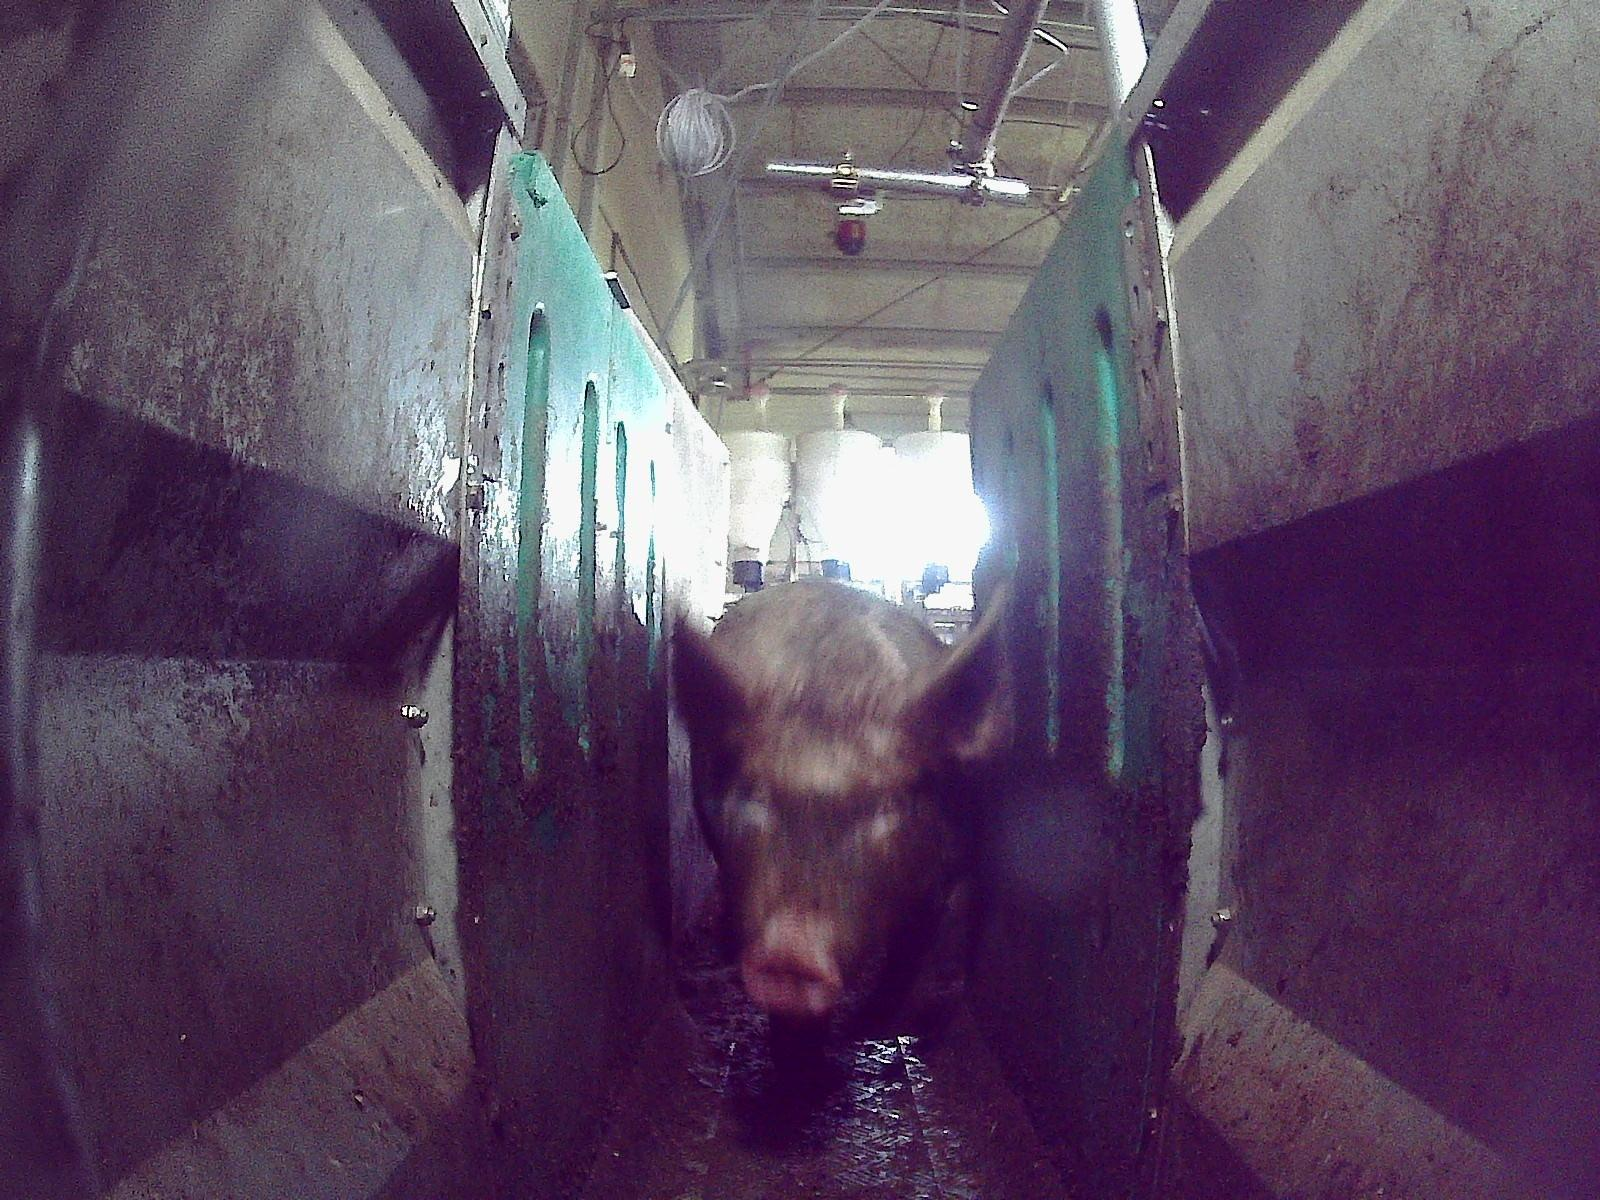Face: (701, 691, 931, 1020)
